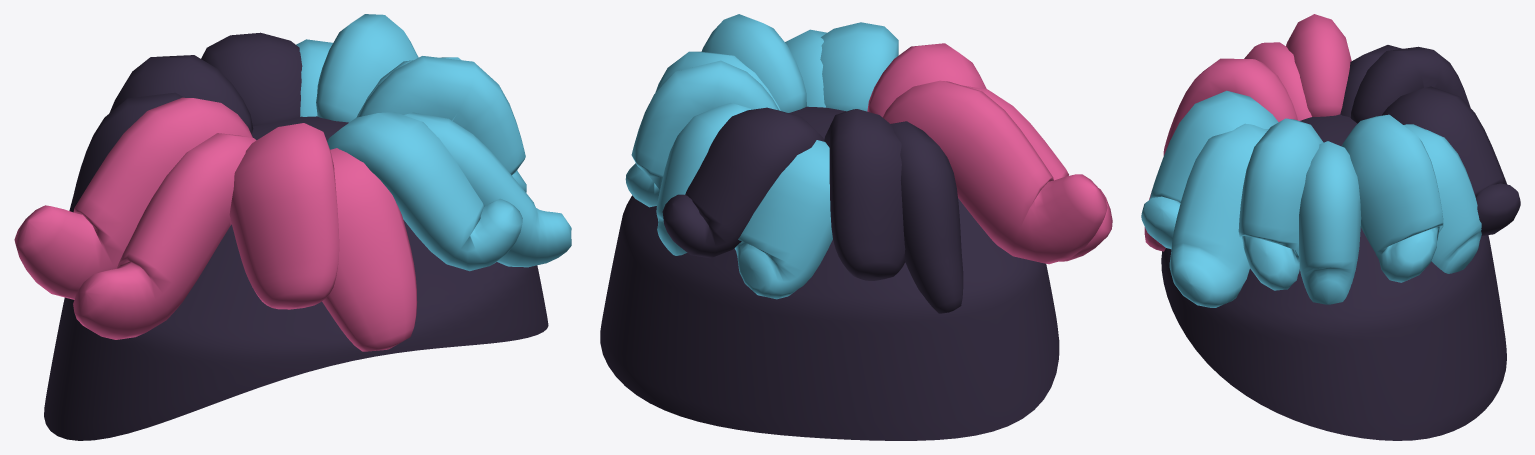
The model's file is studio_multicolor_spiky_default.glb.
The picture shows the model from 3 angles, left to right: view 1: azimuth 30°, elevation 25°; view 2: azimuth 150°, elevation 25°; view 3: azimuth 270°, elevation 25°; orthographic projection. The views are drawn at different scales.
Parts seen in each view (by area): view 1: multicolor_spiky; view 2: multicolor_spiky; view 3: multicolor_spiky.
Part boxes in pixels (box(x1,y1,x2,y2)): multicolor_spiky: box(14, 14, 571, 440); multicolor_spiky: box(600, 14, 1112, 440); multicolor_spiky: box(1141, 14, 1520, 440).
Size of the model in its own units: 0.5372 by 0.3315 by 0.3933.
